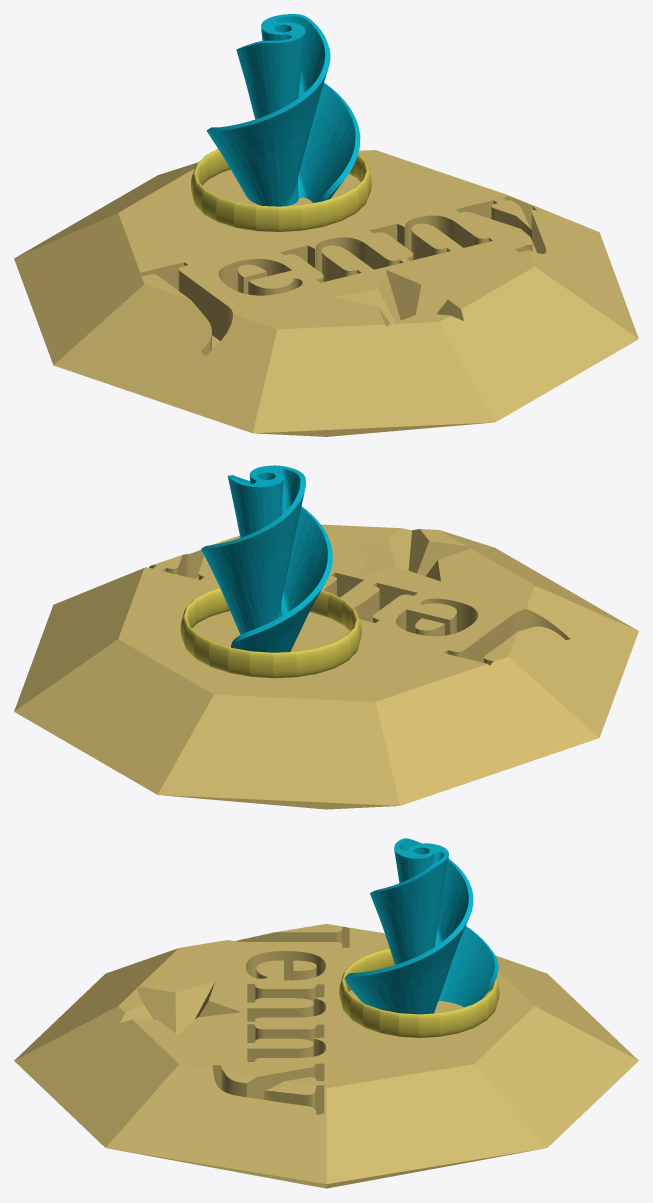
The model's file is name.glb.
The picture shows the model from 3 angles, top to bottom: view 1: azimuth 30°, elevation 25°; view 2: azimuth 150°, elevation 25°; view 3: azimuth 270°, elevation 25°; orthographic projection. The views are drawn at different scales.
Visible parts, largest first — view 1: Mesh_Mesh_head_geo.001_lambert2SG.001; view 2: Mesh_Mesh_head_geo.001_lambert2SG.001; view 3: Mesh_Mesh_head_geo.001_lambert2SG.001.
Boxes of the visible parts, left/top/right/bottom form: Mesh_Mesh_head_geo.001_lambert2SG.001: left=14, top=14, right=638, bottom=436; Mesh_Mesh_head_geo.001_lambert2SG.001: left=14, top=465, right=638, bottom=809; Mesh_Mesh_head_geo.001_lambert2SG.001: left=14, top=838, right=638, bottom=1188.
Size of the model in its own units: 113 by 72.91 by 121.
